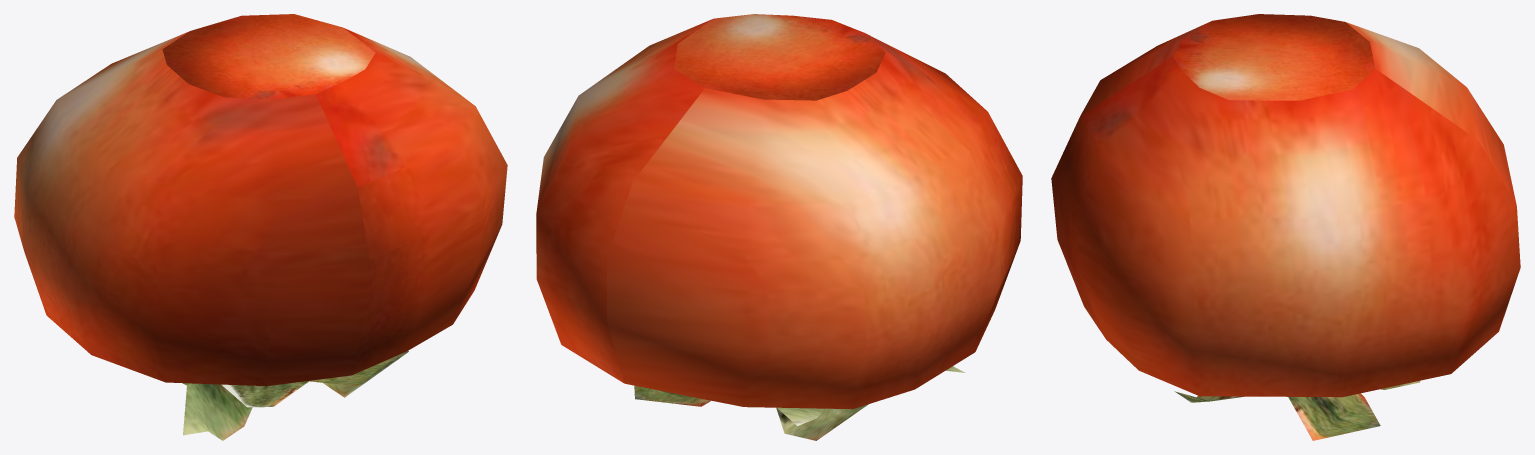
Rendered from persimon - whole.fbx.
The picture shows the model from 3 angles, left to right: view 1: azimuth 30°, elevation 25°; view 2: azimuth 150°, elevation 25°; view 3: azimuth 270°, elevation 25°; orthographic projection. The views are drawn at different scales.
Visible parts, largest first — view 1: persimon___whole; view 2: persimon___whole; view 3: persimon___whole.
Part boxes in pixels (x1,y1,x2,y2): persimon___whole: (14,14,507,440); persimon___whole: (536,14,1022,440); persimon___whole: (1051,14,1520,440).
Size of the model in its own units: 57.09 by 44.67 by 56.68.
Materials: 2 (2 with a texture image).
